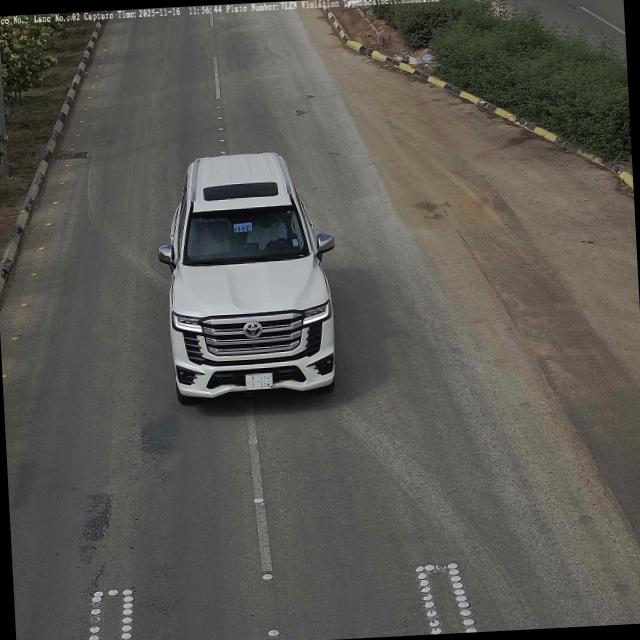person_without_seatbelt: (245, 210, 290, 250)
